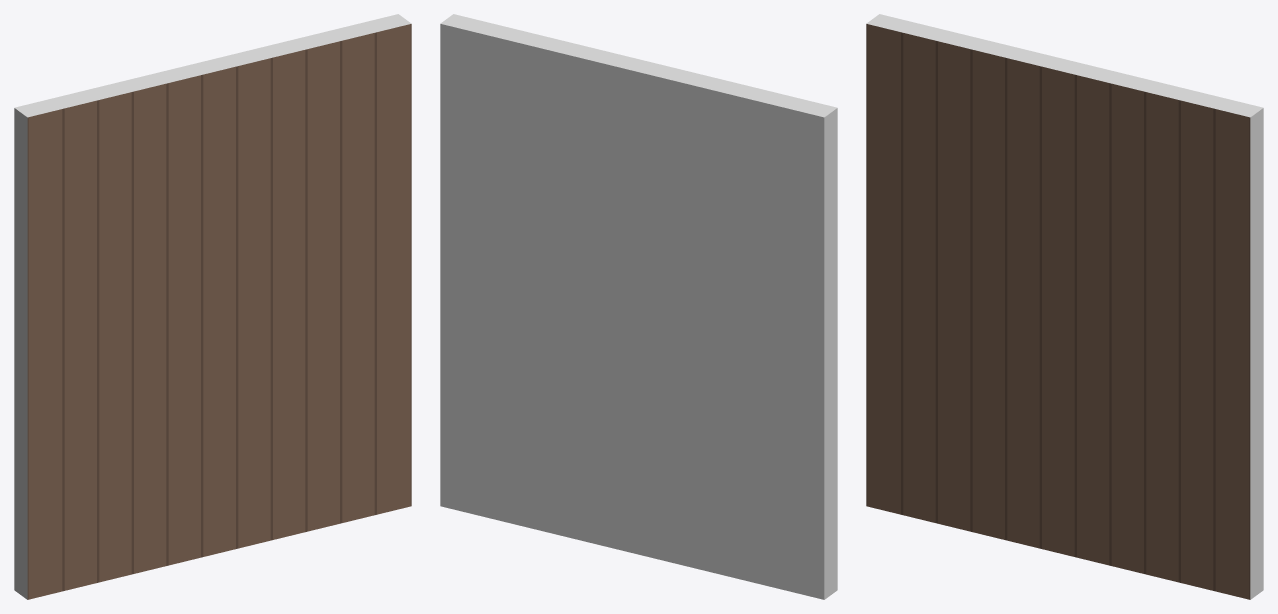
The model's file is Wall1_C9_01.fbx.
The picture shows the model from 3 angles, left to right: view 1: azimuth 30°, elevation 25°; view 2: azimuth 150°, elevation 25°; view 3: azimuth 330°, elevation 25°; orthographic projection.
Parts seen in each view (by area): view 1: Wall1_C9_01; view 2: Wall1_C9_01; view 3: Wall1_C9_01.
Part boxes in pixels (left/top/right/bottom): Wall1_C9_01: left=14, top=14, right=411, bottom=599; Wall1_C9_01: left=440, top=14, right=837, bottom=599; Wall1_C9_01: left=866, top=14, right=1263, bottom=599.
Bounding box in the file's own units: 250 × 300 × 15.
